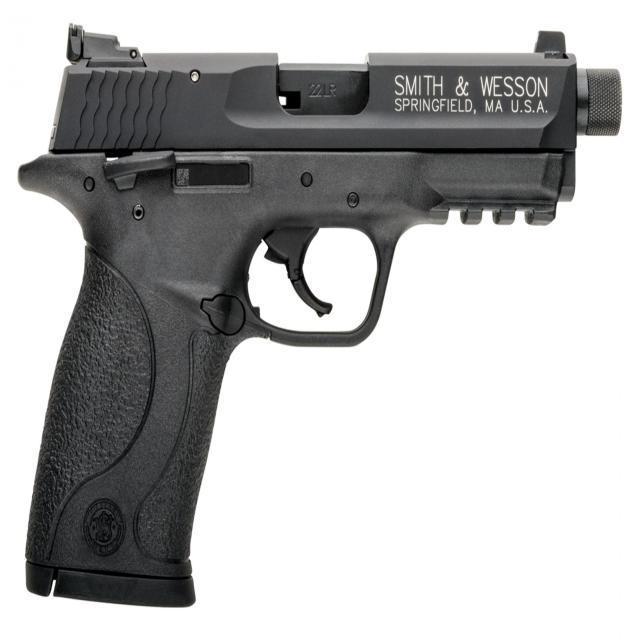Pistol: (19, 6, 639, 640)
